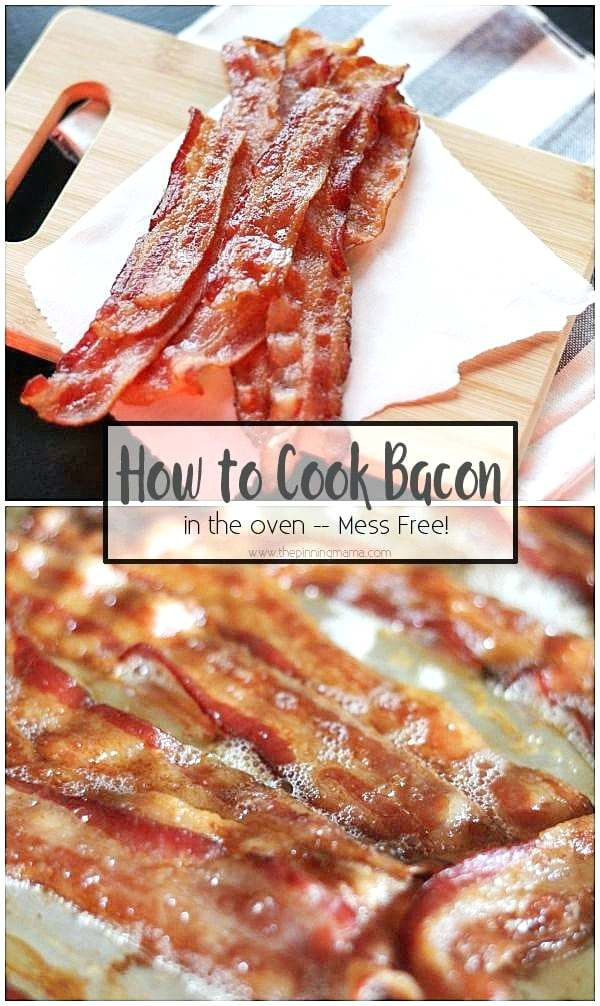bacon: (42, 554, 482, 913), (121, 33, 370, 376)
